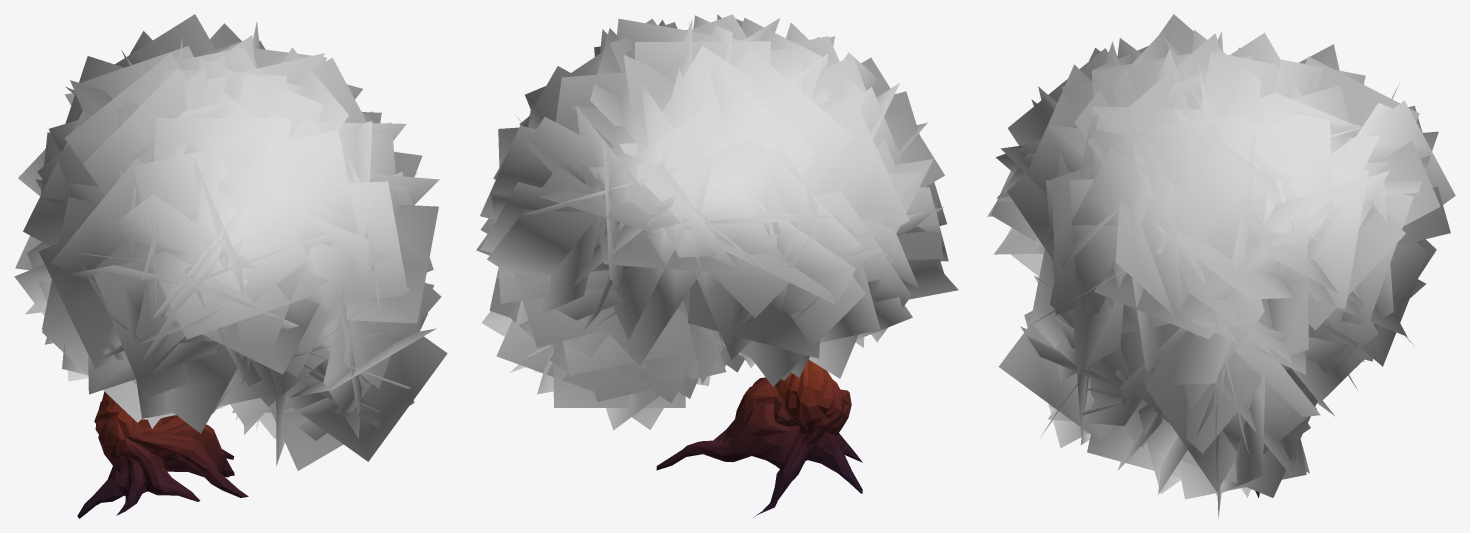
File: simple_tree_3.fbx
The picture shows the model from 3 angles, left to right: view 1: azimuth 30°, elevation 25°; view 2: azimuth 150°, elevation 25°; view 3: azimuth 270°, elevation 25°; orthographic projection.
Visible parts, largest first — view 1: 3 canopy_cards_LOD0, 3 trunk; view 2: 3 canopy_cards_LOD0, 3 trunk; view 3: 3 canopy_cards_LOD0.
Part boxes in pixels (x1,y1,x2,y2): 3 canopy_cards_LOD0: [14, 14, 447, 470]; 3 trunk: [77, 391, 248, 518]; 3 canopy_cards_LOD0: [476, 14, 958, 430]; 3 trunk: [656, 360, 862, 517]; 3 canopy_cards_LOD0: [987, 14, 1455, 518].
Size of what is drawn, in the model's own units: 1396 by 1514 by 1416.
